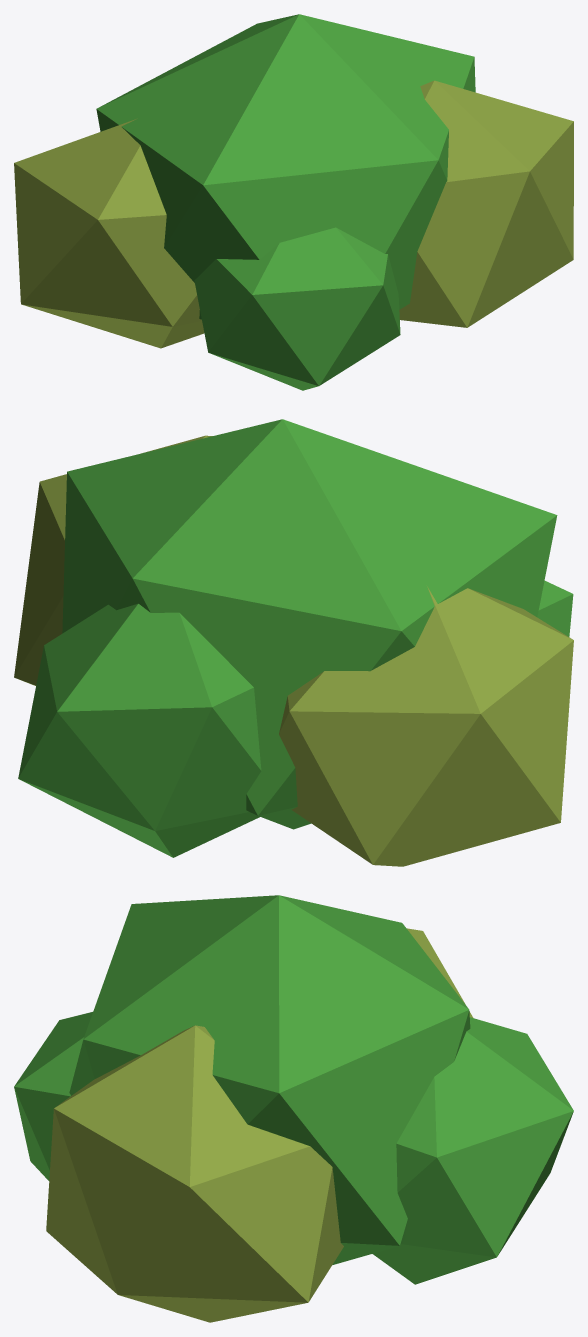
Rendered from bush_b.glb.
The picture shows the model from 3 angles, top to bottom: view 1: azimuth 30°, elevation 25°; view 2: azimuth 150°, elevation 25°; view 3: azimuth 270°, elevation 25°; orthographic projection. The views are drawn at different scales.
Parts seen in each view (by area): view 1: bush_b; view 2: bush_b; view 3: bush_b.
Boxes of the visible parts, x1,y1,x2,y2 form: bush_b: [14, 14, 573, 390]; bush_b: [14, 419, 573, 866]; bush_b: [14, 895, 573, 1322].
Size of the model in its own units: 1.89 by 1.25 by 1.62.
